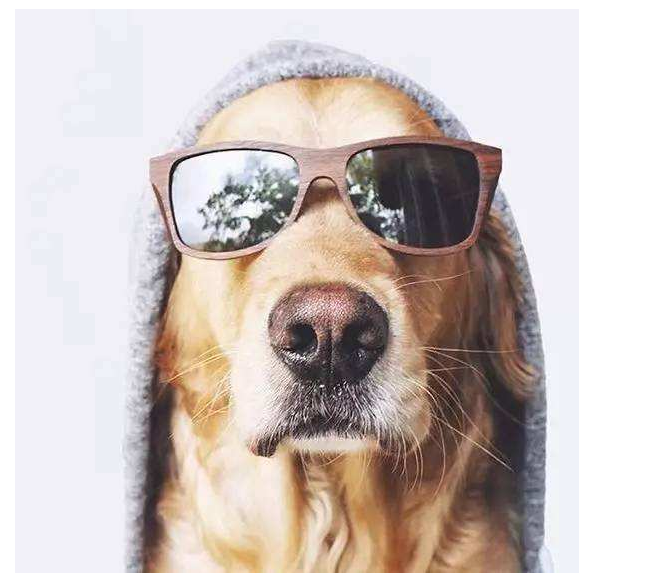nose: (267, 288, 392, 382)
